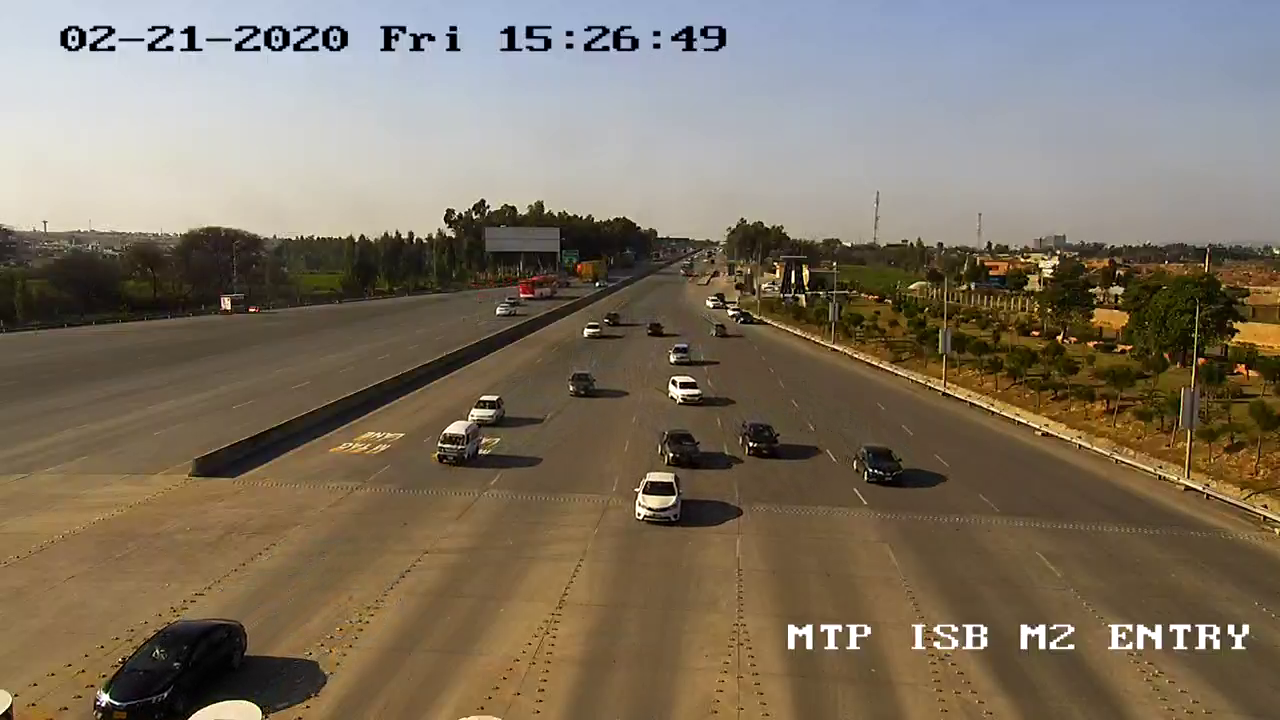f1: (629, 465, 694, 532), (845, 437, 917, 492), (432, 416, 489, 473), (733, 415, 790, 466)
